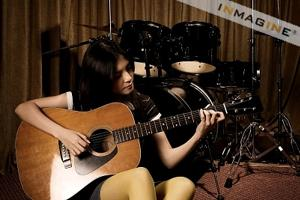person: (15, 40, 225, 199)
